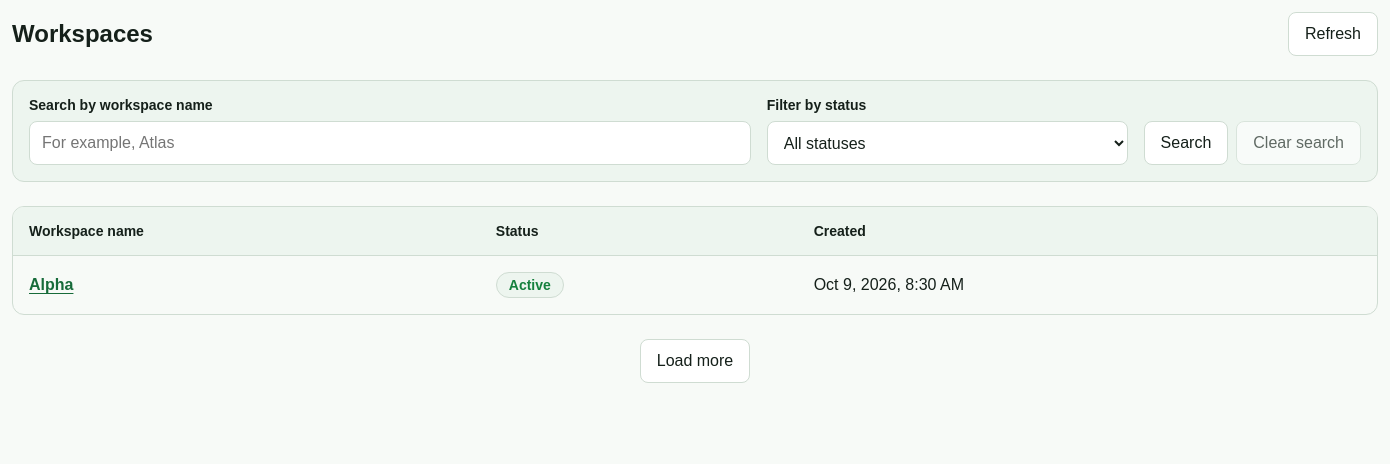
Test: Platform workspace directory › offers a first-page restart for CURSOR_INVALID
The image size is (1390, 464).
Click the button "Load more" at (695, 361), box [640,339,750,383]
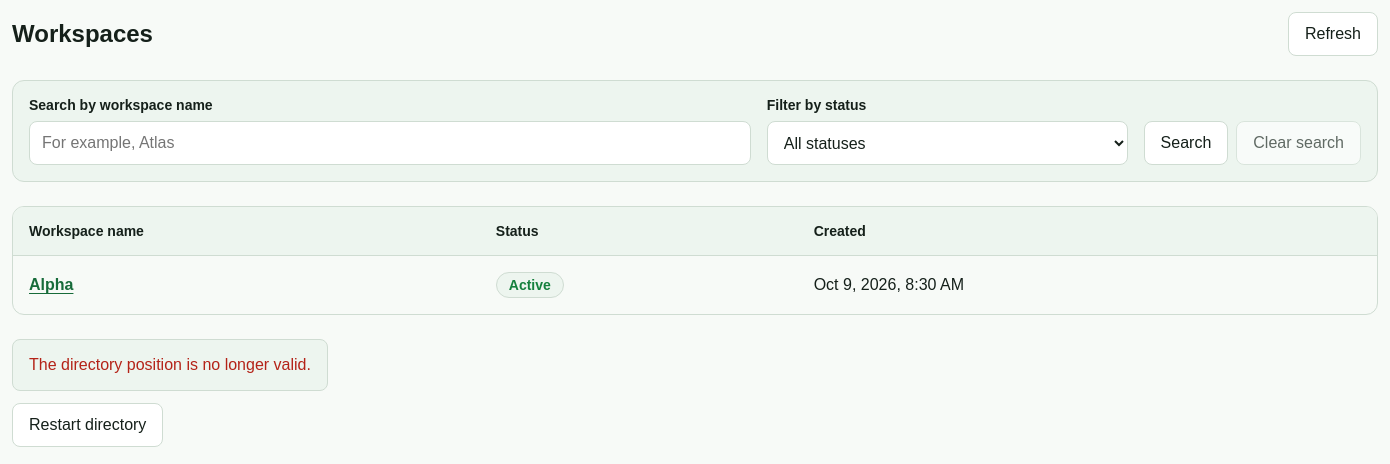
Click the button "Restart directory" at (88, 425), box [12,403,163,447]
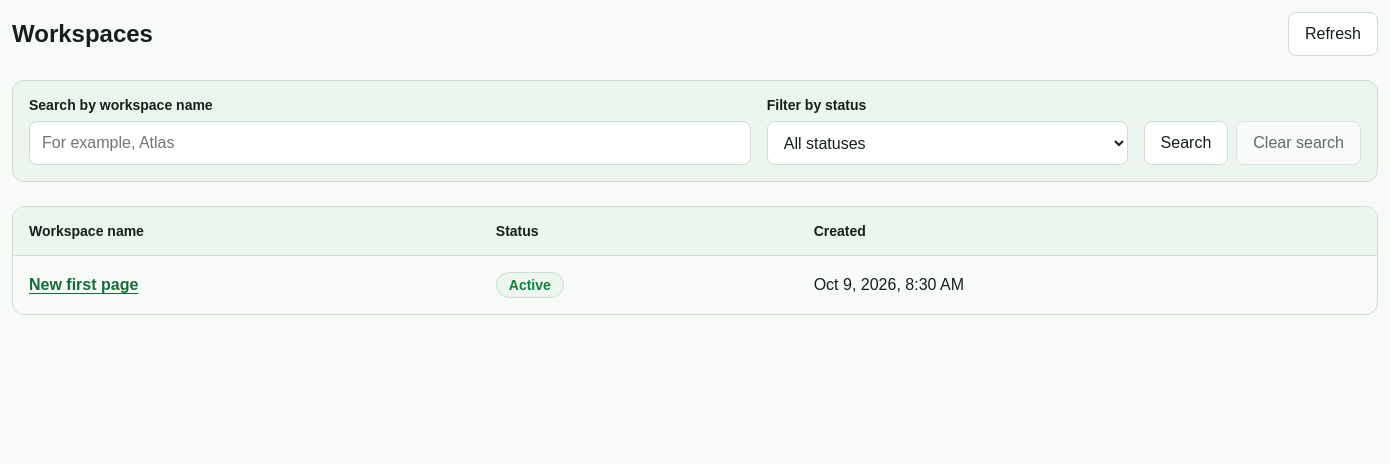
expect the link "New first page" is shown: met, box [29,276,138,293]
